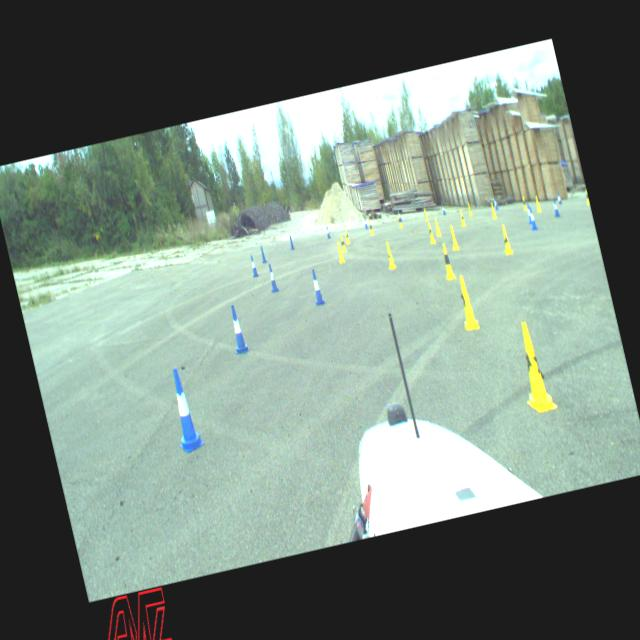blue_cone: (163, 366, 205, 453), (224, 302, 250, 354), (308, 268, 325, 306), (266, 262, 278, 292), (248, 254, 258, 277), (527, 207, 537, 230), (550, 198, 560, 216), (524, 202, 532, 224), (258, 245, 266, 262), (288, 233, 294, 250), (324, 224, 330, 238), (556, 192, 562, 204), (362, 217, 368, 229), (492, 196, 498, 208), (440, 203, 446, 214)
yellow_cone: (509, 319, 557, 414), (453, 274, 479, 330), (438, 242, 456, 280), (499, 223, 513, 254), (383, 240, 397, 269), (448, 224, 458, 250), (335, 240, 345, 262), (432, 216, 442, 236), (426, 222, 435, 244), (338, 233, 346, 252), (458, 209, 466, 226), (343, 228, 350, 244), (489, 201, 496, 217), (534, 195, 541, 211), (584, 188, 590, 204), (368, 220, 374, 234), (520, 195, 526, 209), (397, 215, 403, 228), (422, 208, 428, 221), (467, 202, 472, 216)
